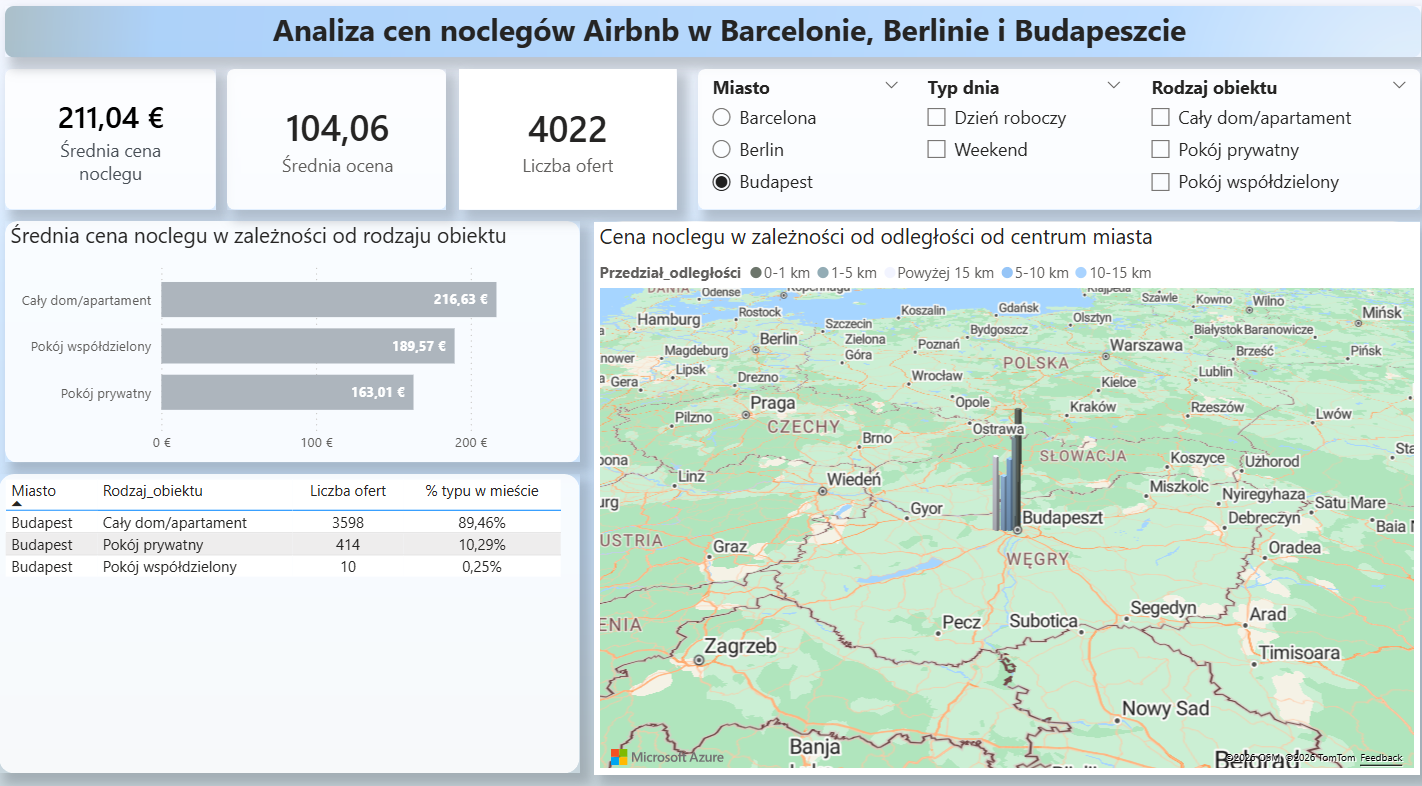

Layout of this report page (visuals, bound fields, positions):
{"tool":"powerbi","page":{"name":"Analiza 2","canvas":[1280,720],"ordinal":1},"visuals":[{"type":"group","id":"g1","title":"Background","box":[0,10.1,1272.9,687.2],"z":0},{"type":"shape","box":[5,66.7,188.8,125.9],"z":0,"group":"g1"},{"type":"image","box":[5,10.1,1267.9,46.4],"z":1000,"group":"g1"},{"type":"cardVisual","fields":{"Data":["_Fact_obiekt.Średnia cena noclegu"]},"box":[0,61.6,200.2,136.7],"z":1000},{"type":"slicer","fields":{"Values":["Dim_miasto.Miasto"]},"box":[625.5,66.7,192.6,125.9],"z":2000},{"type":"shape","box":[533.6,202.7,738.8,494.6],"z":2000,"group":"g1"},{"type":"textbox","box":[52.8,7.2,1202.7,51.9],"z":3000},{"type":"shape","box":[5,202.7,514.8,216.5],"z":3000,"group":"g1"},{"type":"shape","box":[625.5,66.7,646.9,125.9],"z":4000,"group":"g1"},{"type":"slicer","fields":{"Values":["Dim_typ_dnia.Typ_dnia"]},"box":[818.1,66.7,198.9,125.9],"z":4000},{"type":"slicer","fields":{"Values":["Dim_obiekt.Rodzaj_obiektu"]},"box":[1019,66.5,254,126],"z":5000},{"type":"shape","box":[0,429.2,519.8,268.1],"z":5000,"group":"g1"},{"type":"shape","box":[204.5,66.7,196.3,125.9],"z":6000,"group":"g1"},{"type":"clusteredBarChart","title":"Średnia cena noclegu w zależności od rodzaju obiektu","fields":{"Category":["Dim_obiekt.Rodzaj_obiektu"],"Y":["_Fact_obiekt.Średnia cena noclegu"]},"box":[5,202.6,514.8,216.5],"z":6000},{"type":"shape","box":[411.6,66.7,195.1,125.9],"z":7000,"group":"g1"},{"type":"tableEx","fields":{"Values":["Dim_miasto.Miasto","Dim_obiekt.Rodzaj_obiektu","_Fact_obiekt.Liczba ofert","_Fact_obiekt.% typu w mieście"]},"box":[0,429.2,519.8,268.1],"z":7000},{"type":"cardVisual","fields":{"Data":["_Fact_obiekt.Średnia ocena"]},"box":[177.1,50,252.2,158.8],"z":8000},{"type":"cardVisual","fields":{"Data":["_Fact_obiekt.Liczba ofert"]},"box":[411.6,66.7,195.1,125.9],"z":9000},{"type":"azureMap","title":"Cena noclegu w zależności od odległości od centrum miasta","fields":{"Y":["MapaPrzedzialy.Lat"],"X":["MapaPrzedzialy.Lon"],"Size":["_Fact_obiekt.Średnia cena noclegu"],"Series":["Dim_lokalizacja.Przedział_odległości"]},"box":[532.4,203,738.7,494.7],"z":10000}]}

Visuals, with their boxes in screenshot pixels (x1, y1, x2, y2), scaled from the page's 1280x720 canvas onto the 1422x786 screenshot:
"Background" group: 0 11 1414 761
shape: 6 73 215 210
image: 6 11 1414 62
cardVisual - _Fact_obiekt.Średnia cena noclegu: 0 67 222 216
slicer - Dim_miasto.Miasto: 695 73 909 210
shape: 593 221 1414 761
textbox: 59 8 1395 65
shape: 6 221 577 458
shape: 695 73 1414 210
slicer - Dim_typ_dnia.Typ_dnia: 909 73 1130 210
slicer - Dim_obiekt.Rodzaj_obiektu: 1132 73 1414 210
shape: 0 469 577 761
shape: 227 73 445 210
"Średnia cena noclegu w zależności od rodzaju obiektu" clusteredBarChart: 6 221 577 458
shape: 457 73 674 210
tableEx - Dim_miasto.Miasto x Dim_obiekt.Rodzaj_obiektu: 0 469 577 761
cardVisual - _Fact_obiekt.Średnia ocena: 197 55 477 228
cardVisual - _Fact_obiekt.Liczba ofert: 457 73 674 210
"Cena noclegu w zależności od odległości od centrum miasta" azureMap: 591 222 1412 762
